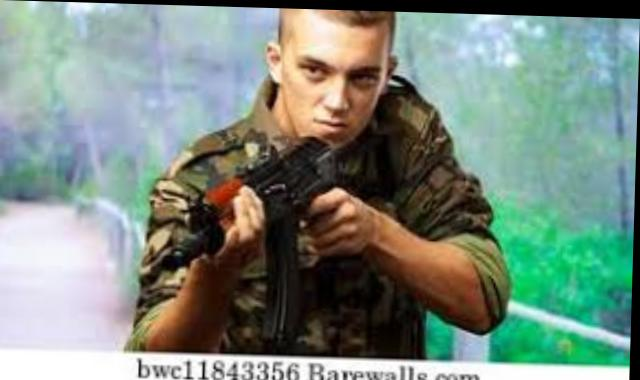other: (126, 3, 520, 356)
